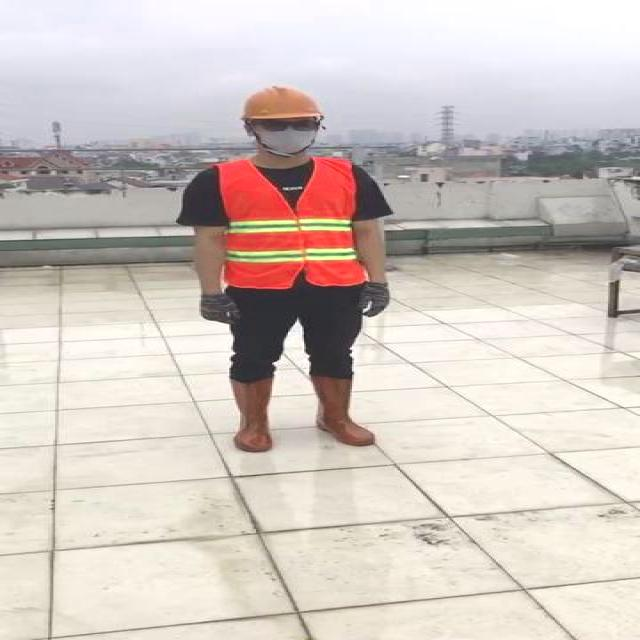boots: (309, 376, 384, 449), (225, 376, 278, 454)
face_mask: (254, 116, 318, 152)
glasses: (254, 118, 318, 133)
hand_glove: (196, 292, 238, 324), (359, 282, 389, 315)
head_helmet: (238, 84, 324, 121)
person: (172, 80, 404, 463)
vest: (217, 159, 364, 287)
